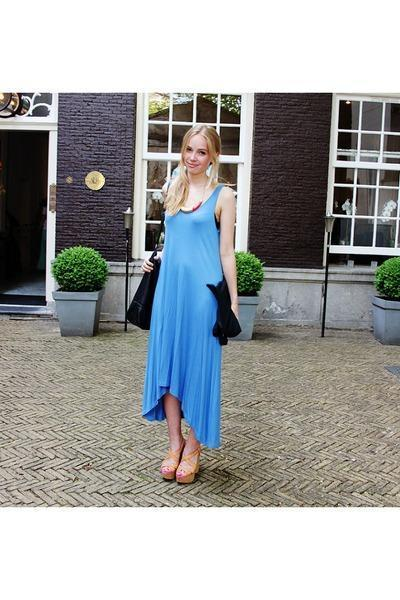bag: (120, 265, 251, 345)
dress: (141, 188, 221, 447)
shoe: (159, 466, 177, 486)
